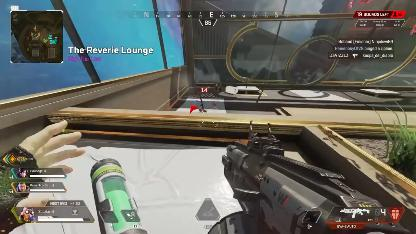Target: (212, 80, 222, 92)
